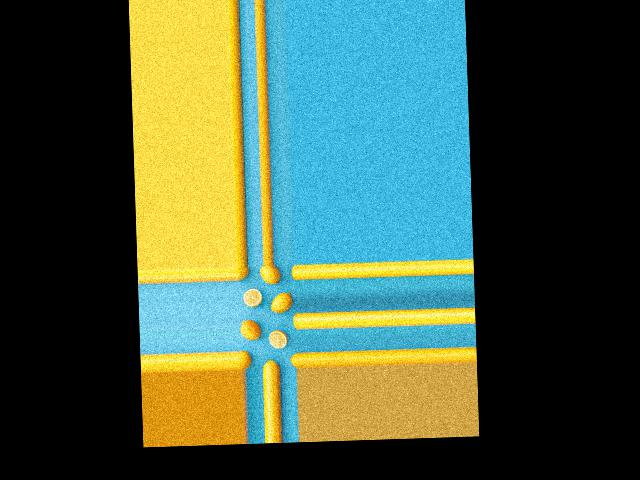lemon: (237, 264, 251, 282)
